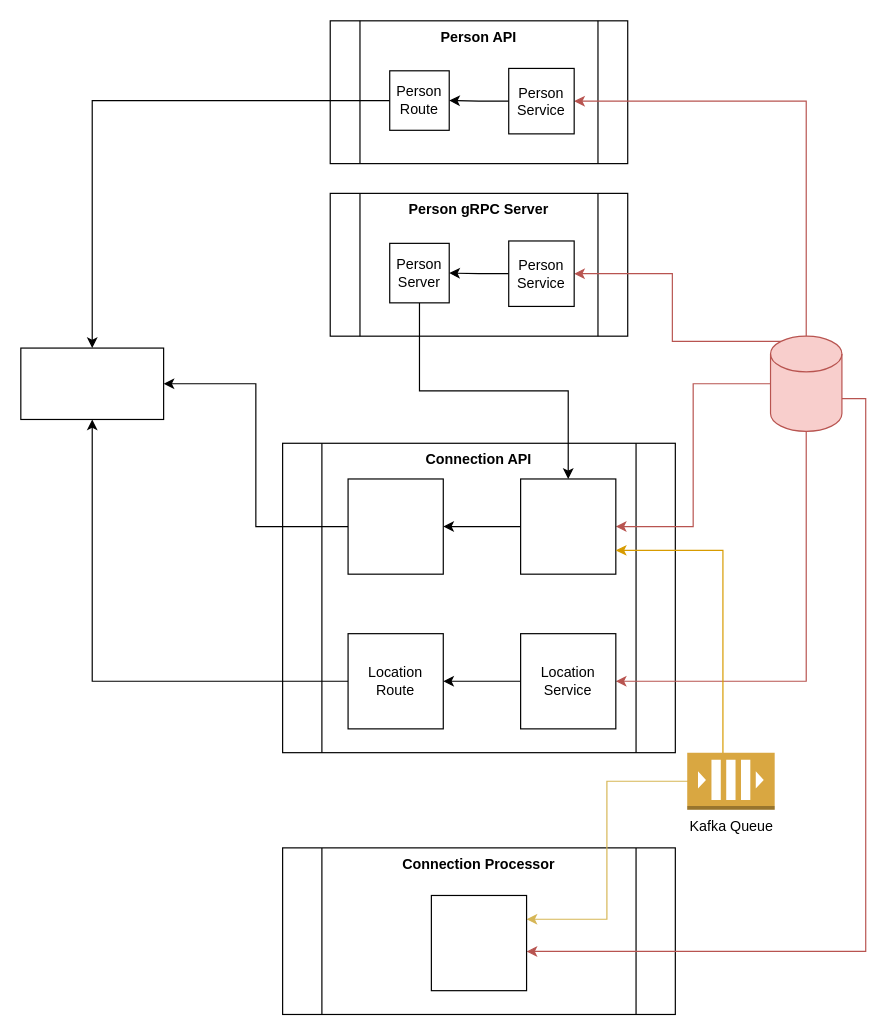
This 896x1035 diagram has some shape labels left out. Each missing label, with the centre of its shape:
Client (Web Application): point (92, 383)
Connection Consumer: point (478, 942)
Connection Route: point (395, 526)
Connection Service: point (567, 526)
Database: point (805, 383)
